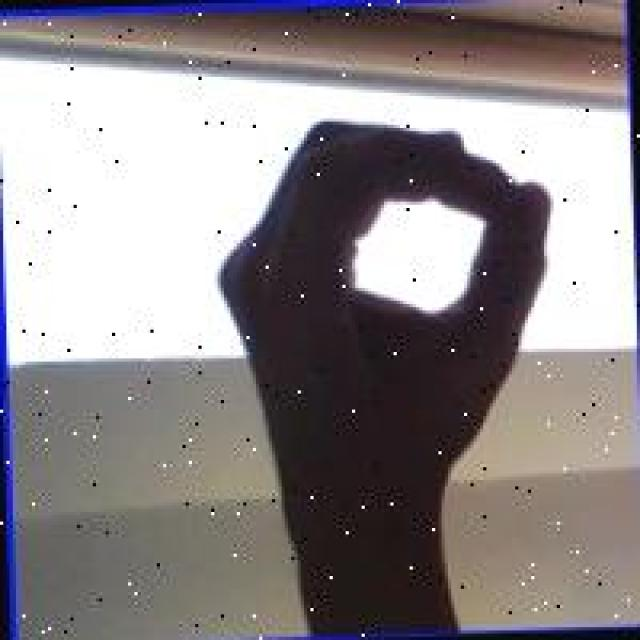O: (182, 101, 573, 520)
